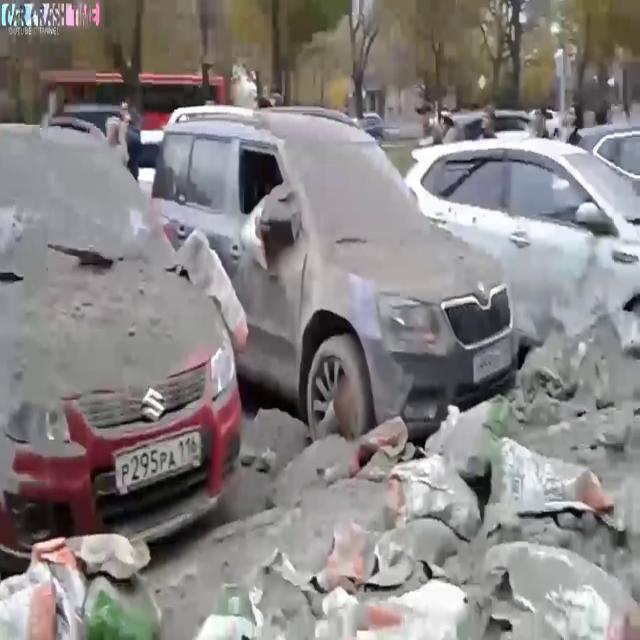Accident: (189, 64, 536, 459), (0, 83, 263, 535)
